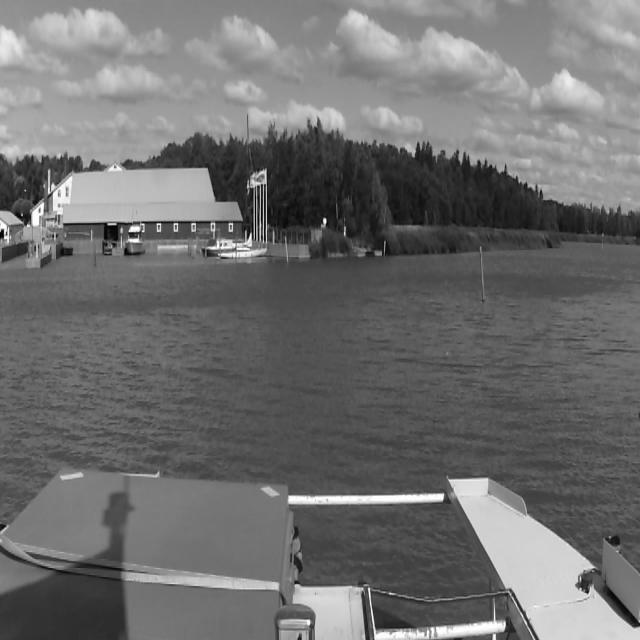buoy: (478, 245, 488, 305), (284, 236, 290, 264)
ship: (218, 109, 269, 263), (125, 223, 145, 256)
